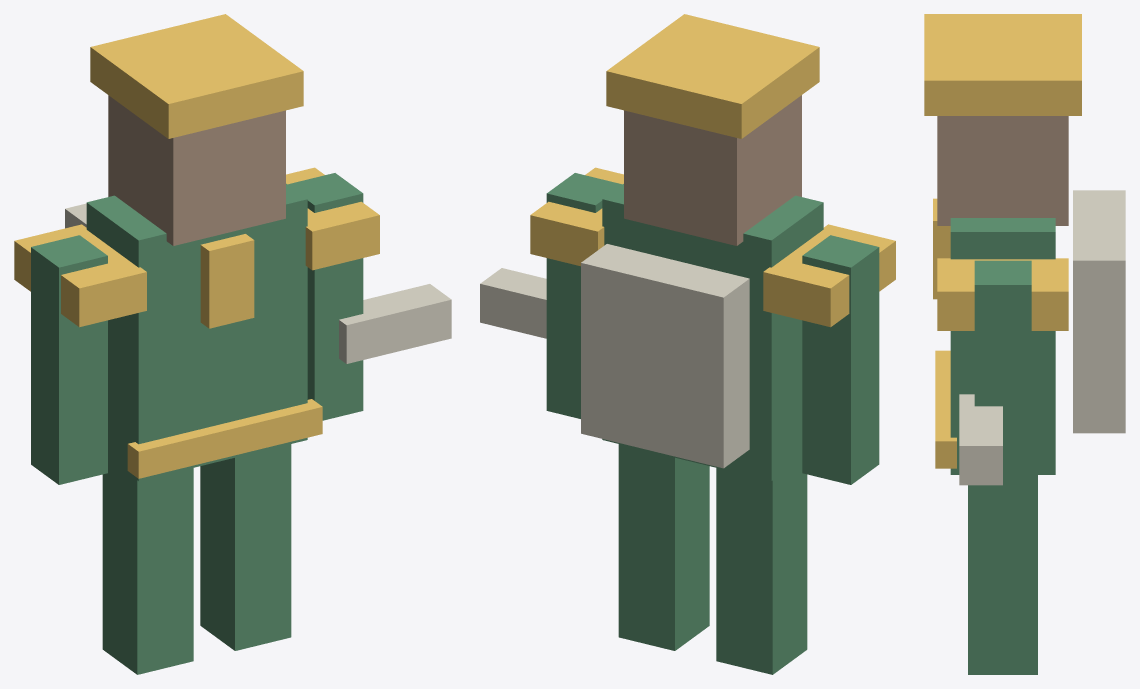
The model's file is 01_ossa_skyharrow_keeper_of_echoing.glb.
3 renders of one model, left to right at view 1: azimuth 30°, elevation 25°; view 2: azimuth 150°, elevation 25°; view 3: azimuth 270°, elevation 25°, orthographic.
Parts seen in each view (by area): view 1: Ossa Skyharrow, Keeper of Echoing; view 2: Ossa Skyharrow, Keeper of Echoing; view 3: Ossa Skyharrow, Keeper of Echoing.
Boxes of the visible parts, bbox=[...] form: Ossa Skyharrow, Keeper of Echoing: bbox=[14, 14, 451, 674]; Ossa Skyharrow, Keeper of Echoing: bbox=[480, 14, 895, 674]; Ossa Skyharrow, Keeper of Echoing: bbox=[924, 14, 1125, 674].
Bounding box in the file's own units: 1.04 × 1.51 × 0.4675.
